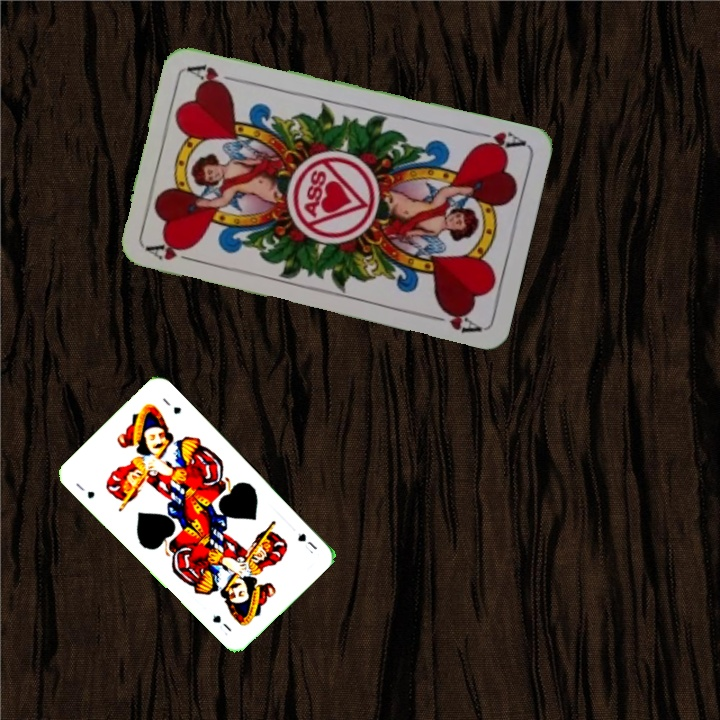GU: (293, 529, 320, 556), (71, 479, 97, 502)
HA: (468, 127, 528, 155), (143, 237, 201, 265)
